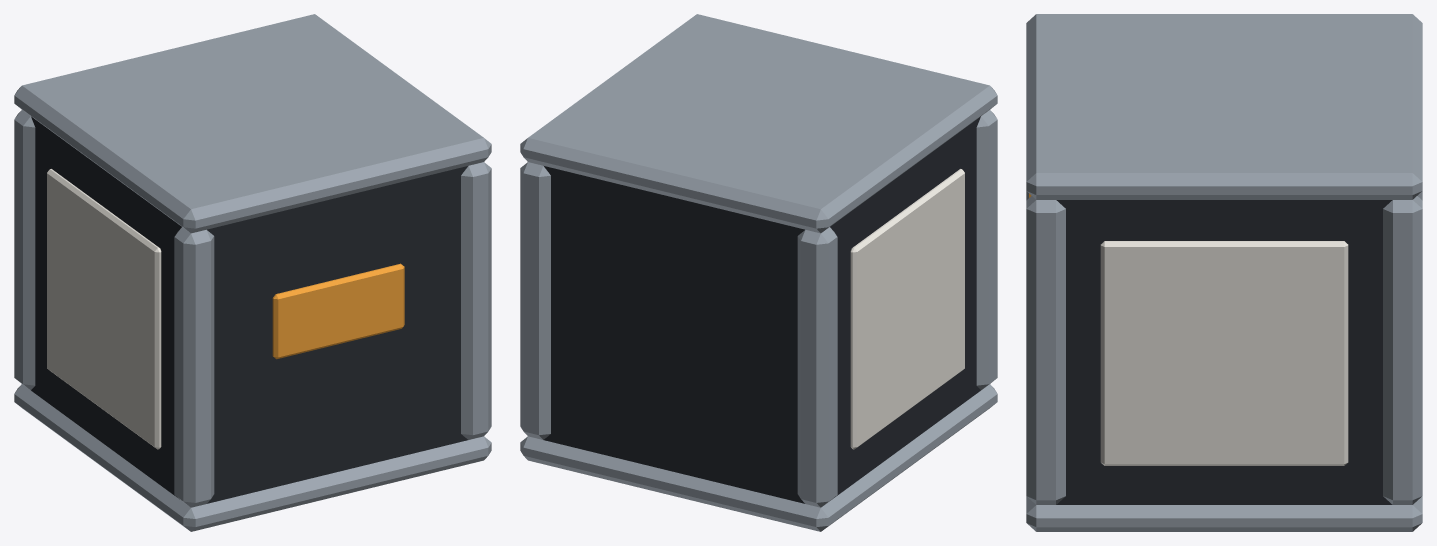
The model's file is supply_crate.obj.
3 views of the same model, side by side, from view 1: azimuth 30°, elevation 25°; view 2: azimuth 150°, elevation 25°; view 3: azimuth 270°, elevation 25° (orthographic). The views are drawn at different scales.
Parts seen in each view (by area): view 1: supply_crate; view 2: supply_crate; view 3: supply_crate.
Boxes of the visible parts, x1,y1,x2,y2 form: supply_crate: (14,14,491,531); supply_crate: (520,14,997,531); supply_crate: (1026,14,1422,531).
Bounding box in the file's own units: 0.8 × 0.8 × 0.8.
